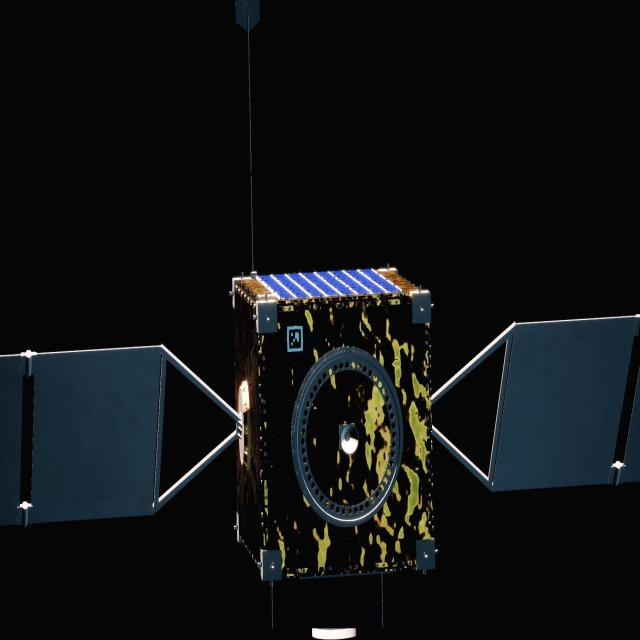medium_debris: (0, 267, 640, 585)
